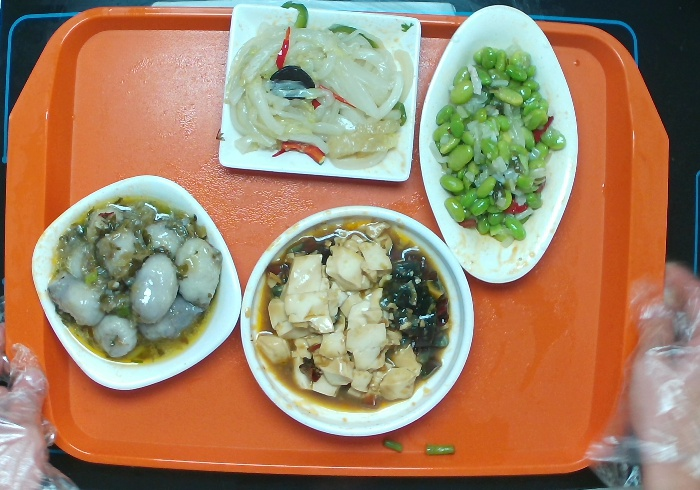HZYJPL-Si_Fang_Die: (217, 3, 423, 186)
HZYJPL-Si_Fang_Yuan_Die: (30, 172, 245, 394)
HZYJPL-Xiao_Yu_Die: (417, 1, 581, 287)
HZYJPL-Xiao_Yuan_Die: (237, 203, 476, 440)
